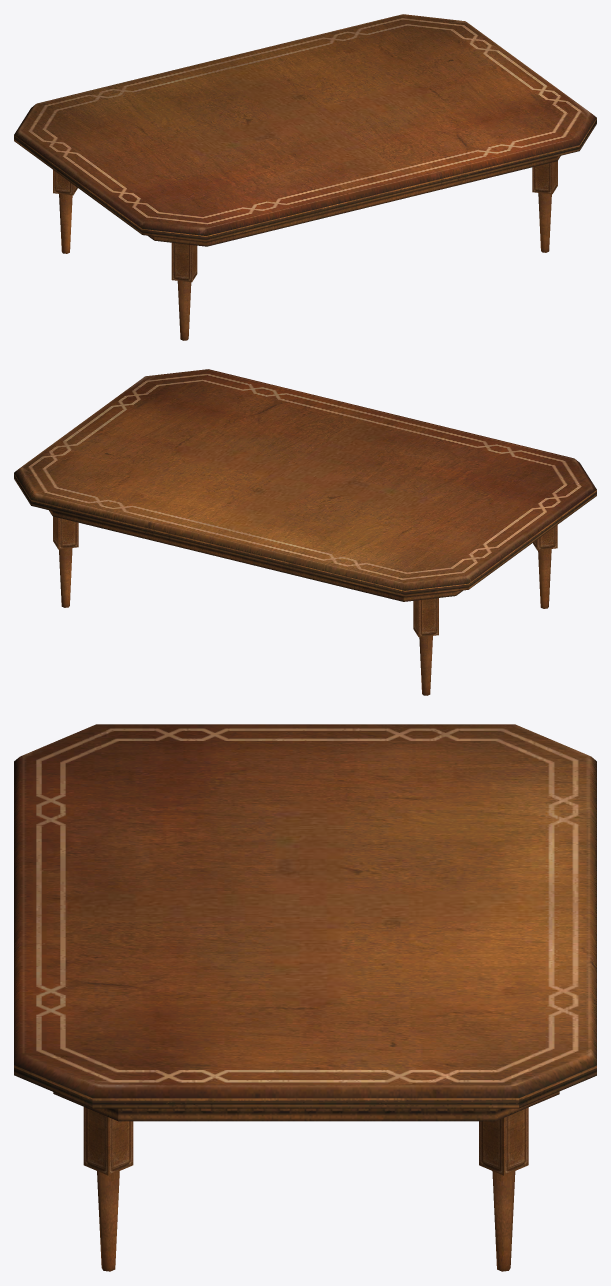
File: table_b.fbx
3 views of the same model, one above another, from view 1: azimuth 30°, elevation 25°; view 2: azimuth 150°, elevation 25°; view 3: azimuth 270°, elevation 25° (orthographic). The views are drawn at different scales.
Visible parts, largest first — view 1: table_b; view 2: table_b; view 3: table_b.
Boxes of the visible parts, x1,y1,x2,y2 form: table_b: (14,14,596,340); table_b: (14,369,596,695); table_b: (14,724,596,1271).
Bounding box in the file's own units: 209 × 57.11 × 139.
1 material, 1 textured.
